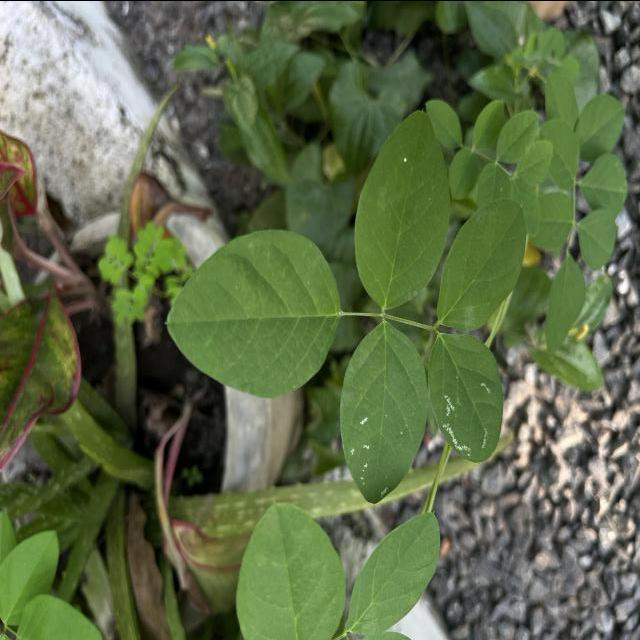Clitoria ternatea: (163, 226, 343, 399), (352, 107, 452, 310), (338, 319, 429, 504), (436, 196, 528, 332), (426, 331, 504, 463)
